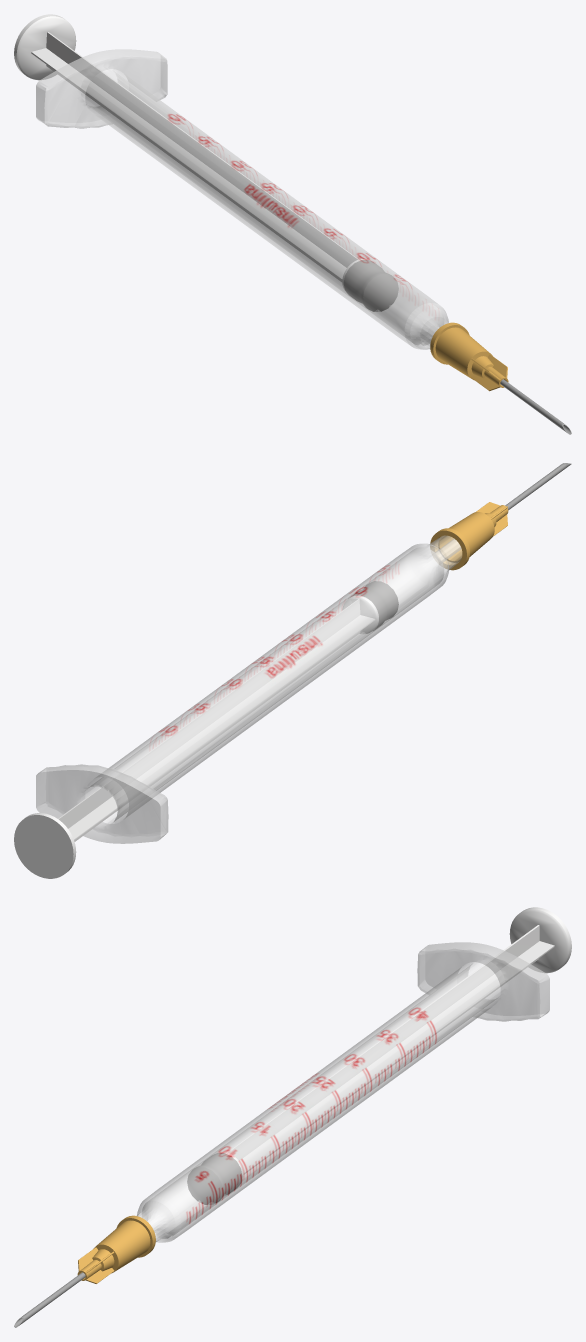
Rendered from kimtiem2.FBX.
3 views of the same model, one above another, from view 1: azimuth 30°, elevation 25°; view 2: azimuth 150°, elevation 25°; view 3: azimuth 330°, elevation 25° (orthographic).
Parts seen in each view (by area): view 1: pasted__pasted__vo, pasted__pasted__xilanh; view 2: pasted__pasted__vo, pasted__pasted__xilanh; view 3: pasted__pasted__vo, pasted__pasted__xilanh.
Part boxes in pixels (bbox=[...]): pasted__pasted__vo: bbox=[36, 49, 571, 434]; pasted__pasted__xilanh: bbox=[14, 14, 398, 311]; pasted__pasted__vo: bbox=[36, 463, 571, 843]; pasted__pasted__xilanh: bbox=[14, 581, 398, 878]; pasted__pasted__vo: bbox=[14, 942, 549, 1327]; pasted__pasted__xilanh: bbox=[187, 907, 571, 1204].
Bounding box in the file's own units: 0.9781 × 0.5138 × 7.15.
5 materials, 1 textured.
